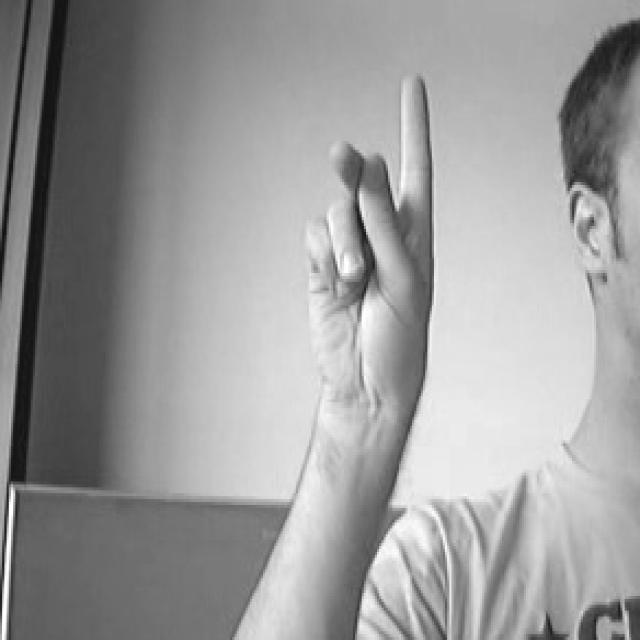K: (294, 54, 441, 453)
